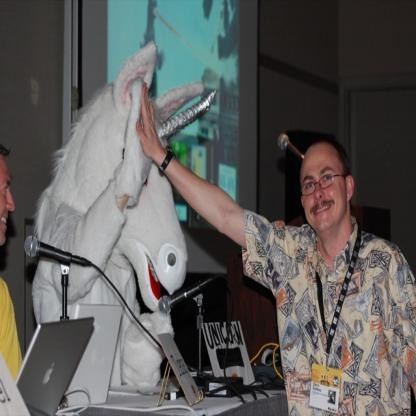board: (15, 316, 94, 416)
